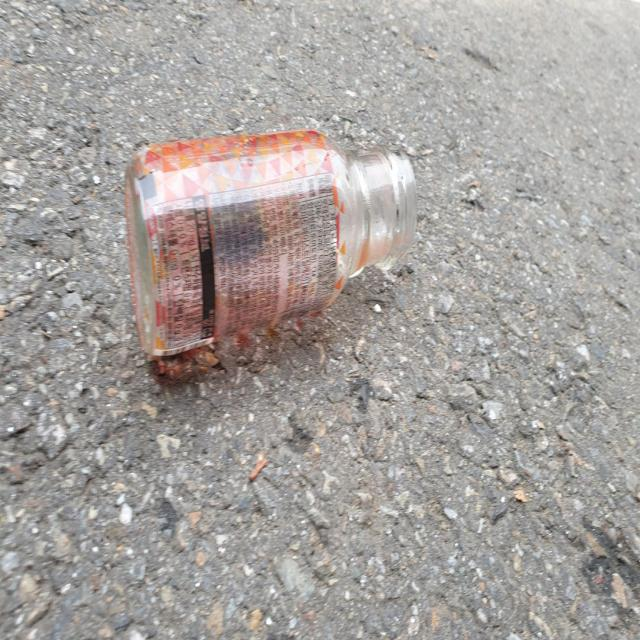glass: (125, 129, 417, 356)
